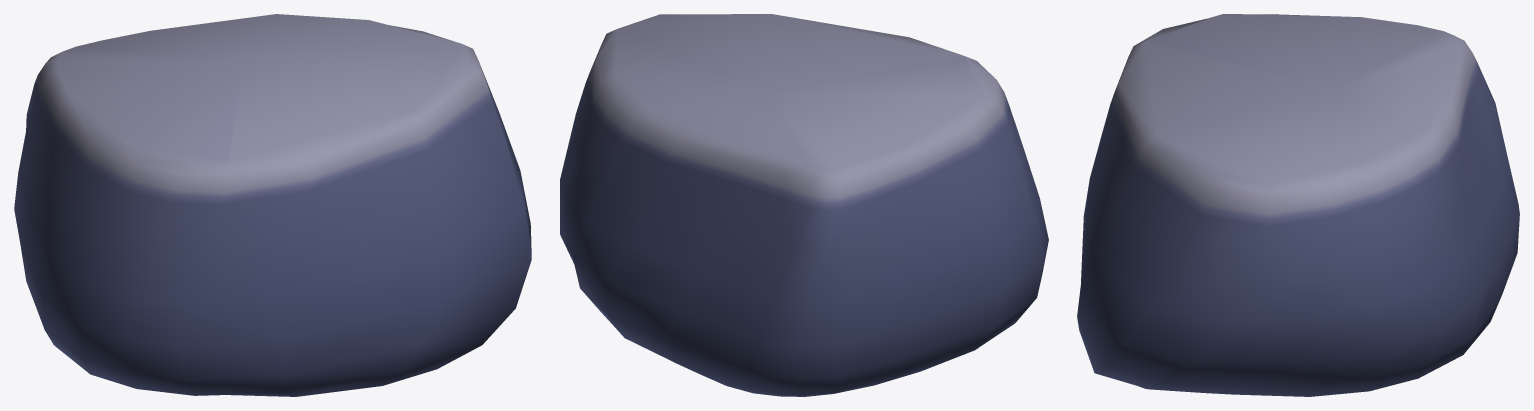
The model's file is block_rock_2_3.fbx.
3 views of the same model, side by side, from view 1: azimuth 30°, elevation 25°; view 2: azimuth 150°, elevation 25°; view 3: azimuth 270°, elevation 25° (orthographic). The views are drawn at different scales.
Visible parts, largest first — view 1: block_rock_2_3; view 2: block_rock_2_3; view 3: block_rock_2_3.
Boxes of the visible parts, bbox=[...] form: block_rock_2_3: bbox=[14, 14, 531, 396]; block_rock_2_3: bbox=[560, 14, 1048, 396]; block_rock_2_3: bbox=[1077, 14, 1519, 396].
Bounding box in the file's own units: 65.73 × 34.8 × 56.57.
